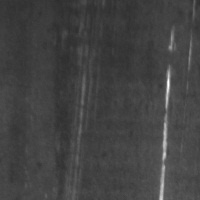scratches: (158, 29, 177, 199), (70, 70, 91, 170)
